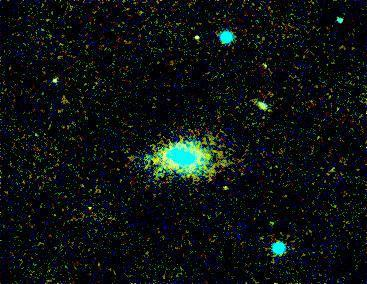star: (209, 168, 239, 198)
